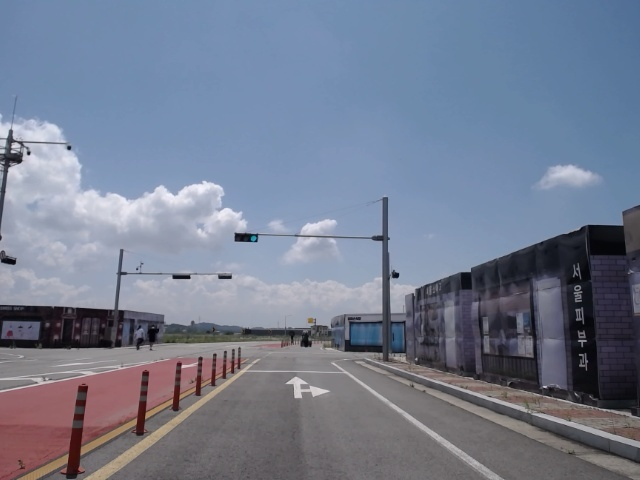green_3: (234, 234, 259, 241)
